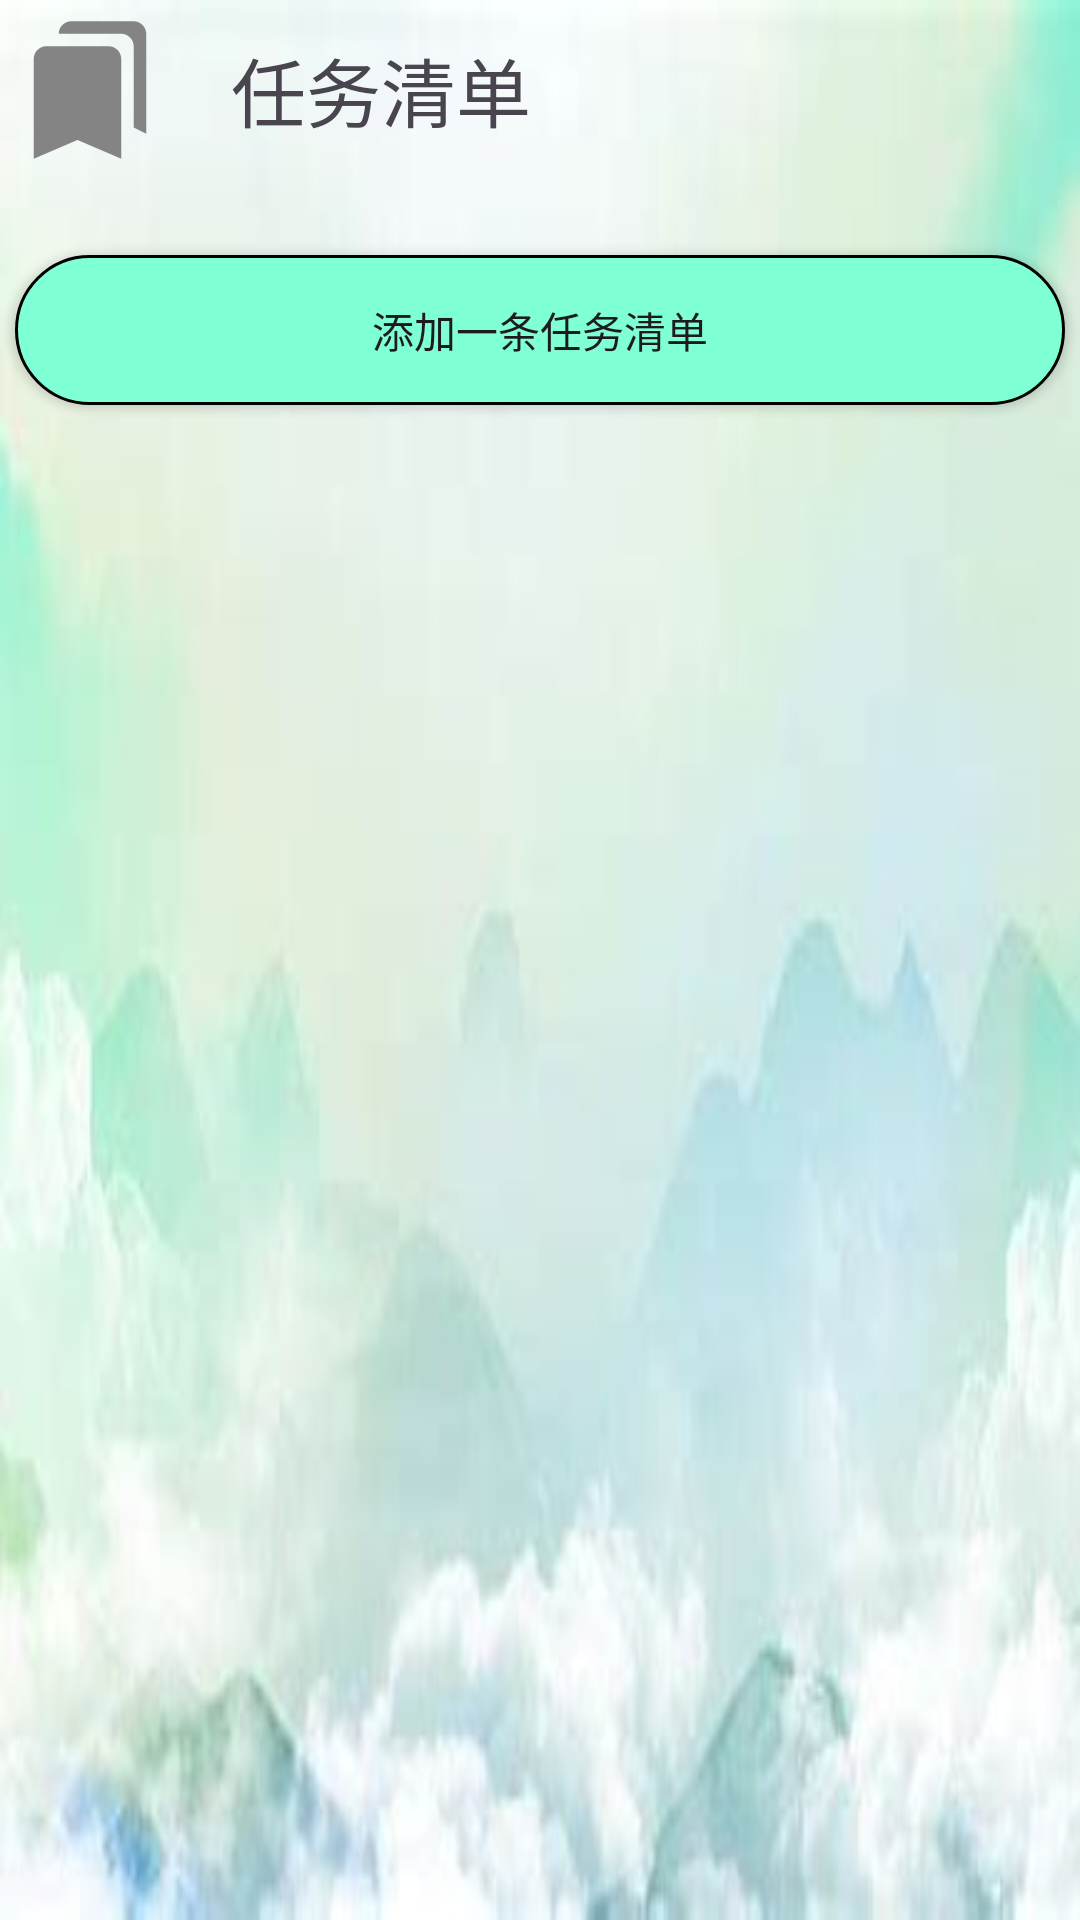

Icons on this 1080*1920 Android screen, each with the point to tap as (x=x, y=y):
bookmarks: (x=90, y=90)
